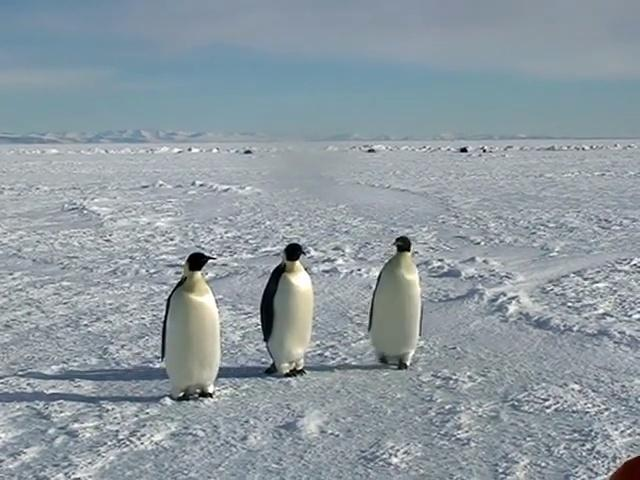animal: (370, 237, 424, 369)
